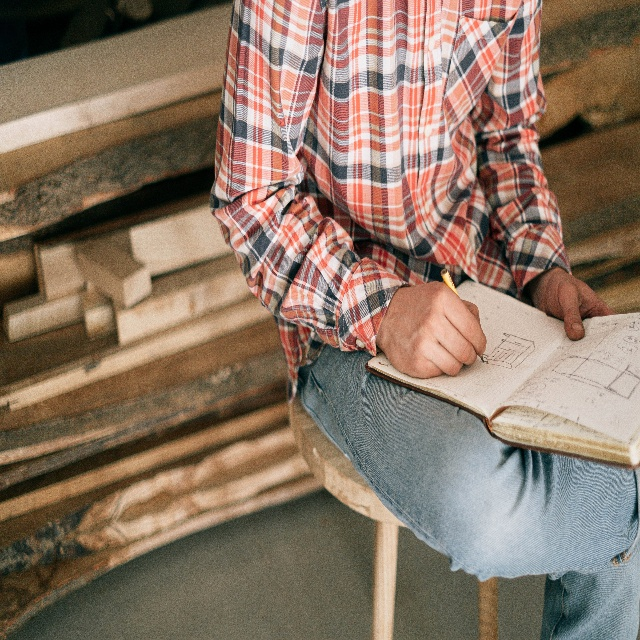Sin_guantes: (377, 273, 488, 383), (536, 265, 615, 342)
